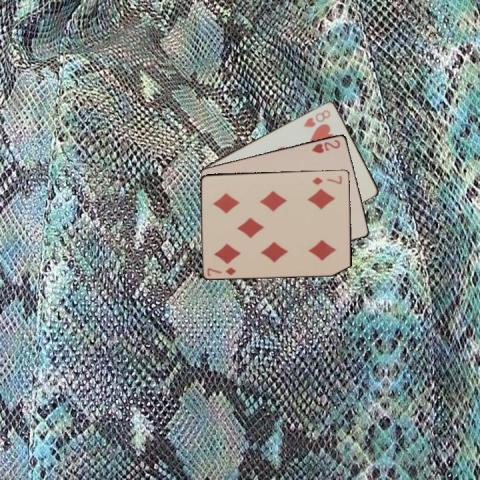2h: (310, 136, 342, 154)
7d: (310, 173, 344, 186), (204, 264, 238, 277)
8h: (301, 106, 332, 129)
